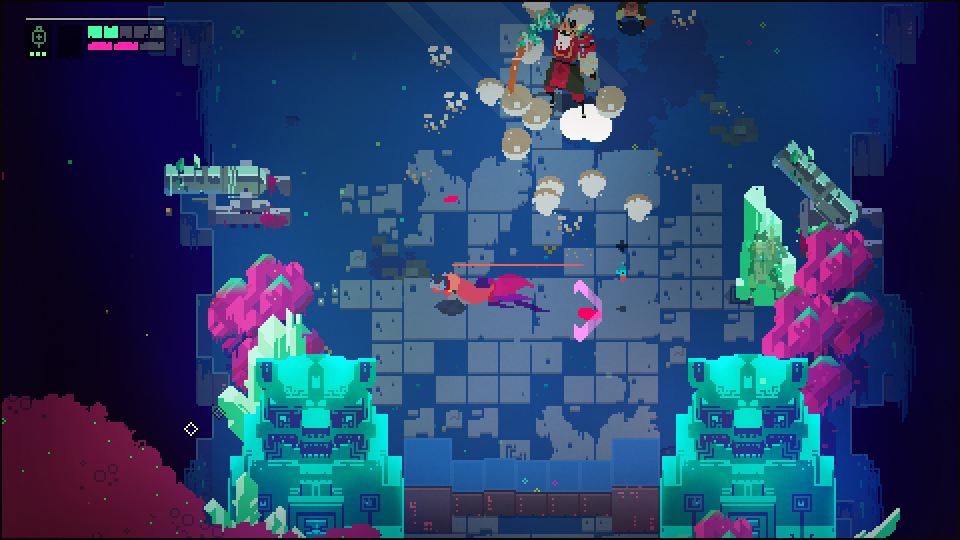hanged_man: (516, 12, 599, 110)
player: (431, 277, 490, 307)
